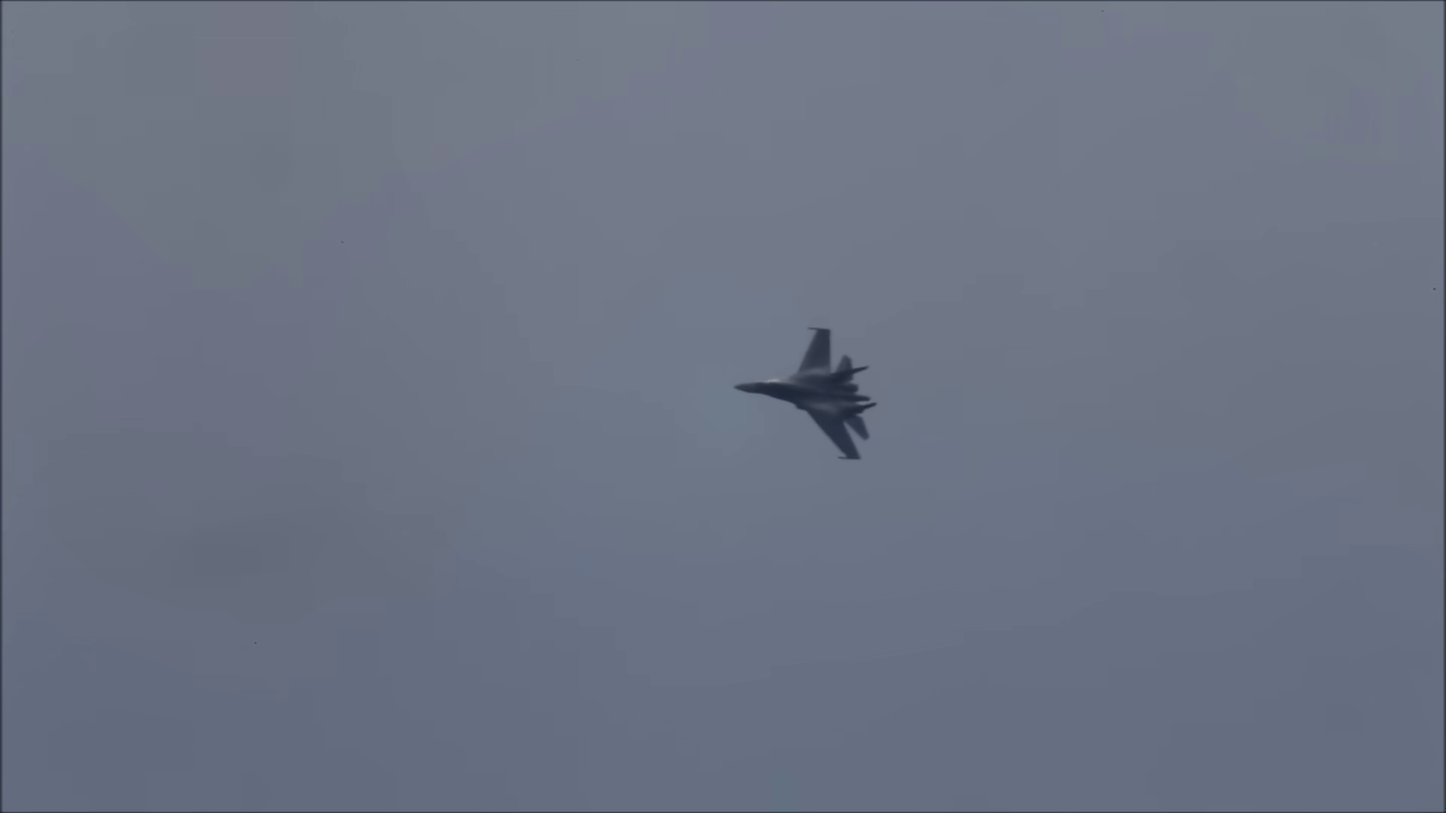Su35: (732, 322, 880, 464)
